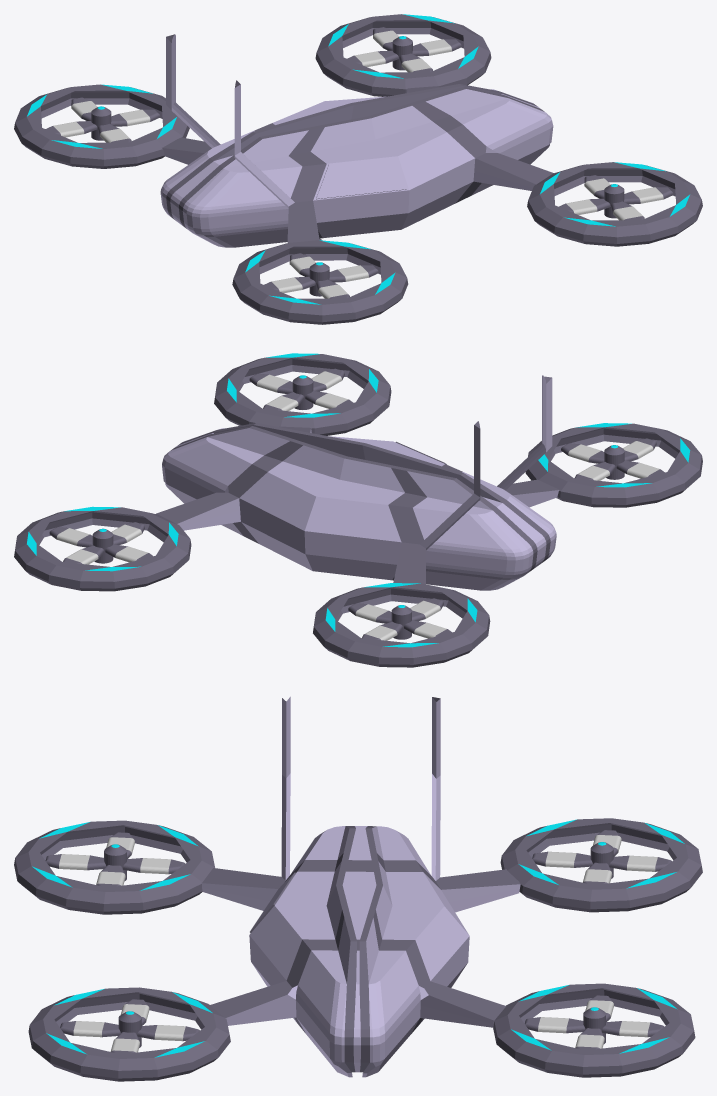
Rendered from FPVDRON.fbx.
3 views of the same model, one above another, from view 1: azimuth 30°, elevation 25°; view 2: azimuth 150°, elevation 25°; view 3: azimuth 270°, elevation 25° (orthographic). The views are drawn at different scales.
Visible parts, largest first — view 1: Plane.003; view 2: Plane.003; view 3: Plane.003.
Boxes of the visible parts, x1,y1,x2,y2 form: Plane.003: (14, 14, 702, 324); Plane.003: (14, 353, 702, 667); Plane.003: (14, 696, 702, 1081).
Bounding box in the file's own units: 583 × 253 × 671.
